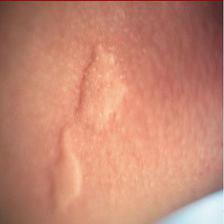Mosquito: (69, 42, 138, 137), (51, 128, 83, 216)
